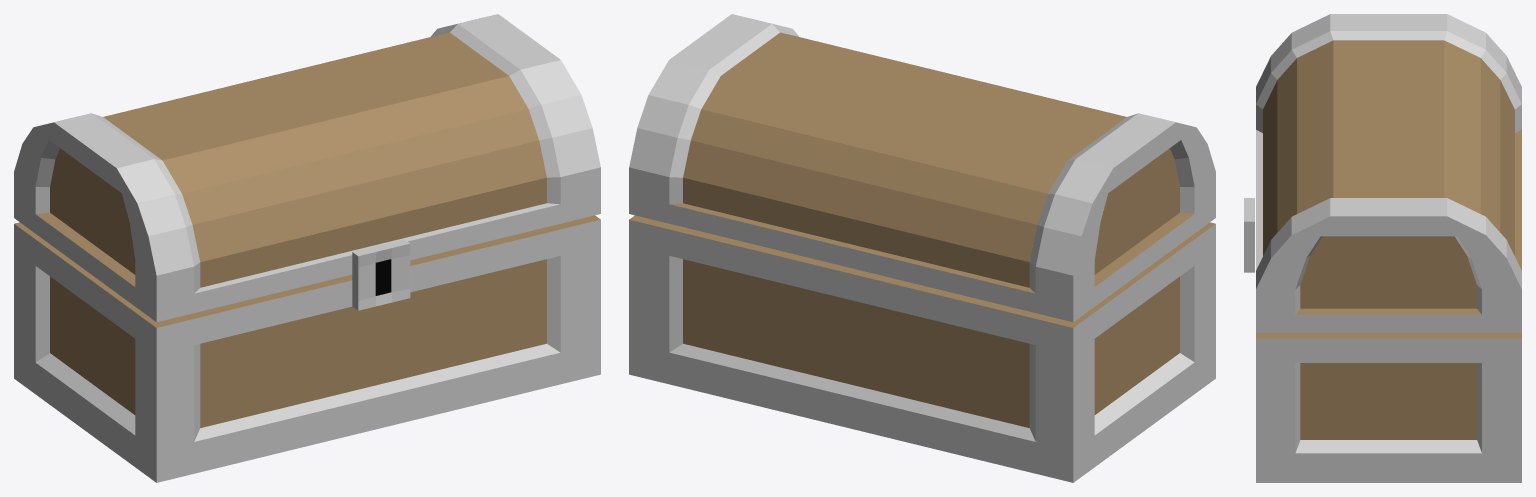
The model's file is Chest.fbx.
3 renders of one model, left to right at view 1: azimuth 30°, elevation 25°; view 2: azimuth 150°, elevation 25°; view 3: azimuth 270°, elevation 25°, orthographic. The views are drawn at different scales.
Visible parts, largest first — view 1: ChestBody; view 2: ChestBody; view 3: ChestBody.
Part boxes in pixels (x1,y1,x2,y2): ChestBody: [14, 14, 600, 482]; ChestBody: [629, 14, 1215, 482]; ChestBody: [1244, 14, 1521, 482].
Bounding box in the file's own units: 2.09 × 3.6 × 2.21.
